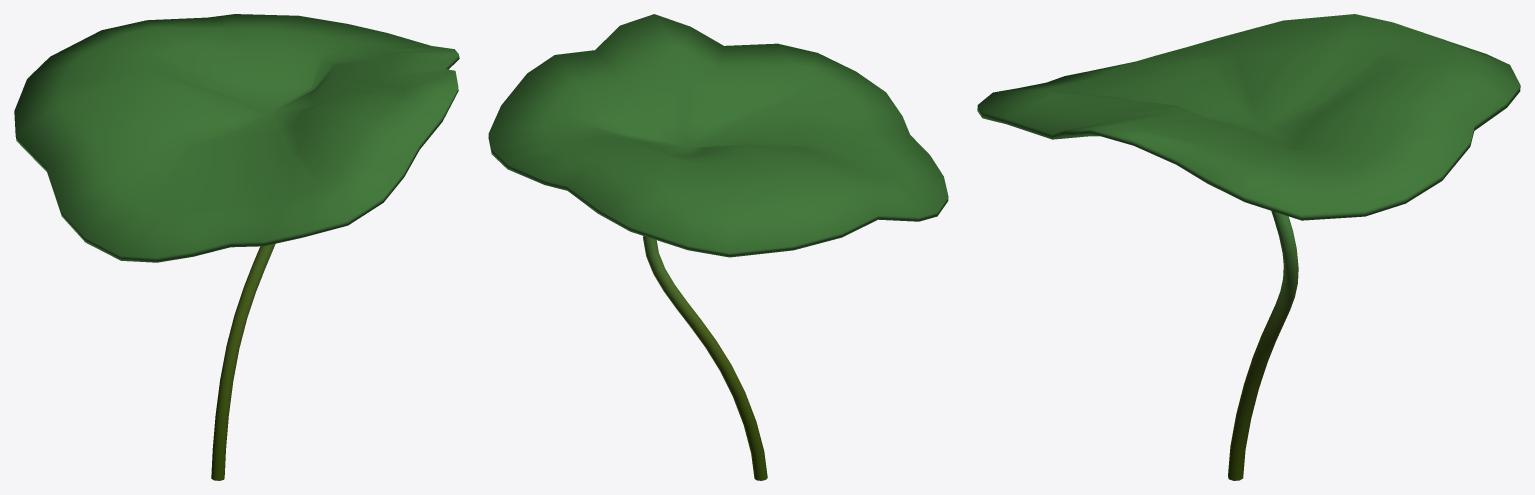
Rendered from Plant-Lotus.fbx.
3 views of the same model, side by side, from view 1: azimuth 30°, elevation 25°; view 2: azimuth 150°, elevation 25°; view 3: azimuth 270°, elevation 25° (orthographic). The views are drawn at different scales.
Visible parts, largest first — view 1: Circle, Stem; view 2: Circle, Stem; view 3: Circle, Stem.
Part boxes in pixels (left/top/right/bottom): Circle: left=14, top=14, right=459, bottom=262; Stem: left=211, top=243, right=275, bottom=480; Circle: left=488, top=14, right=948, bottom=257; Stem: left=643, top=236, right=767, bottom=480; Circle: left=977, top=14, right=1520, bottom=220; Stem: left=1228, top=211, right=1298, bottom=480.
Size of the model in its own units: 535 by 500 by 552.
